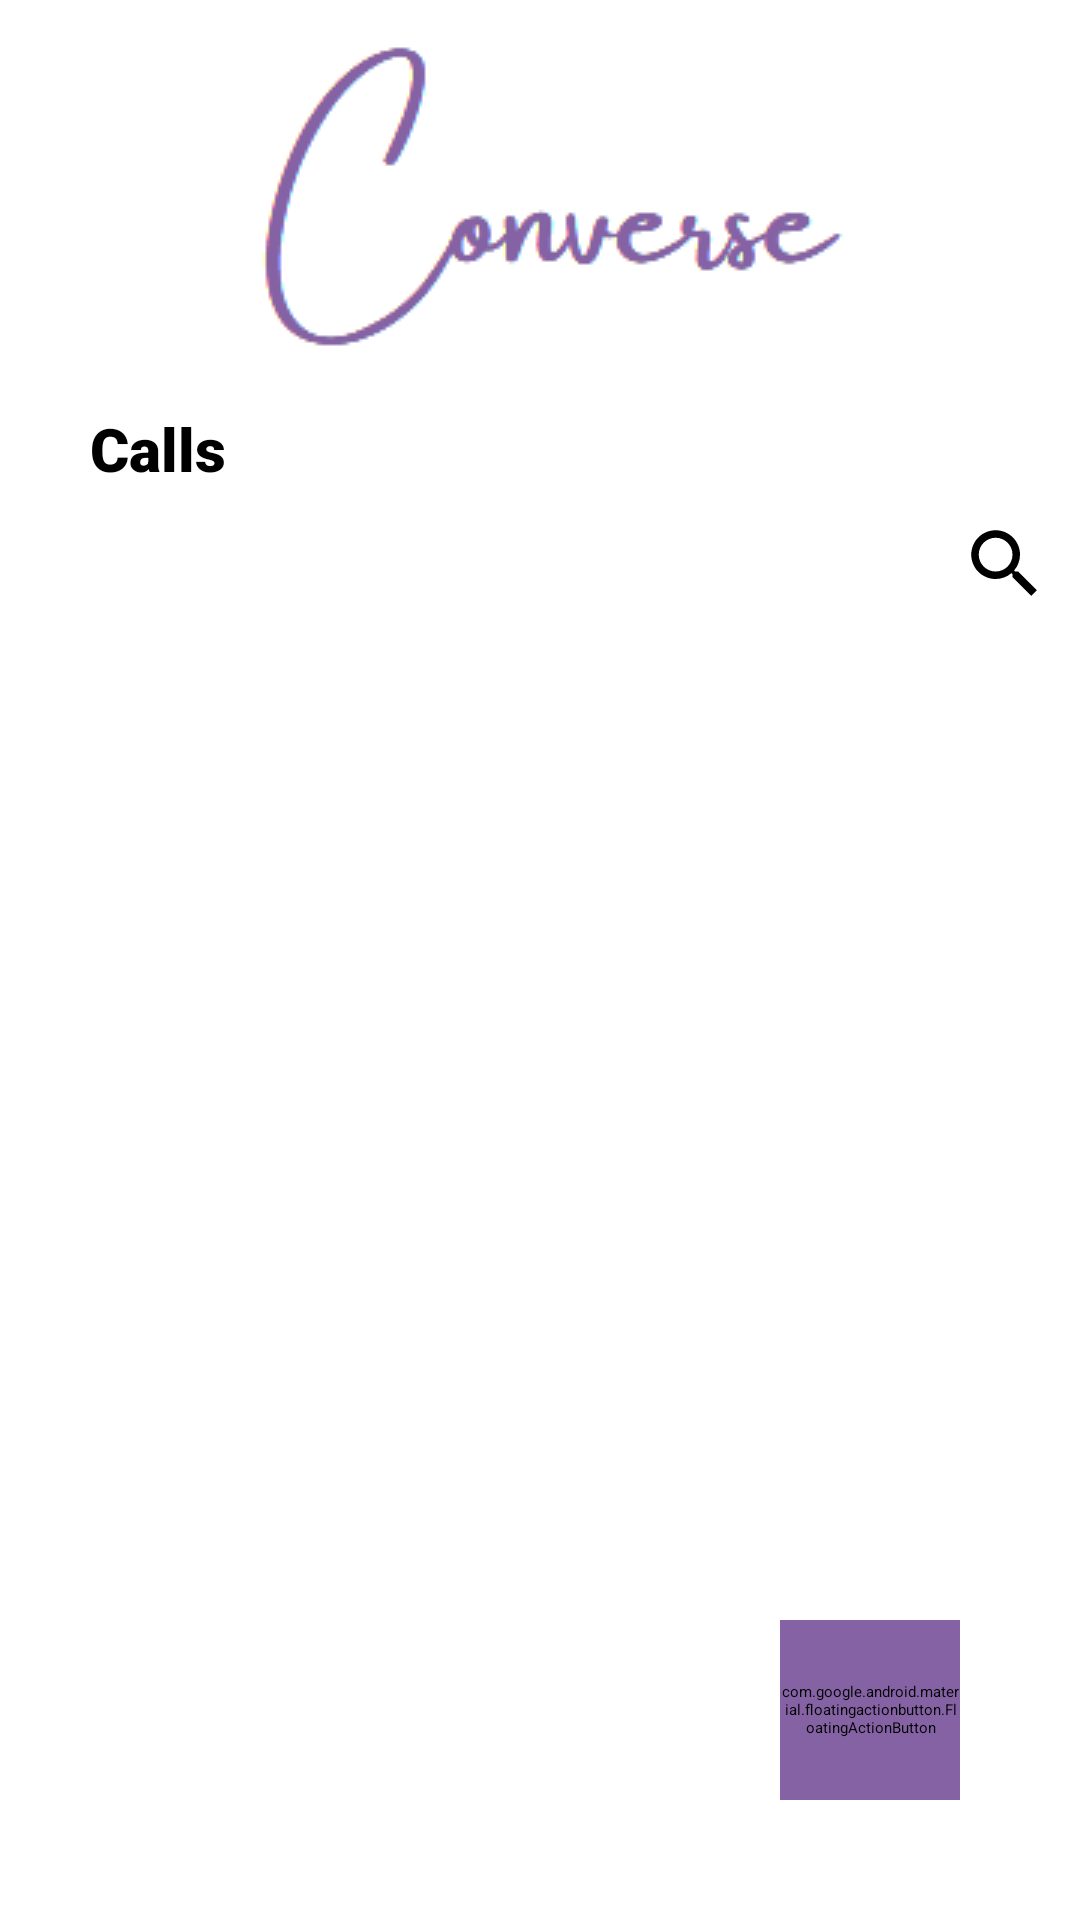

Point at icon controls on the screen. Image size 1080w x 1920h, points as point (x, y).
search: point (1004, 563)
